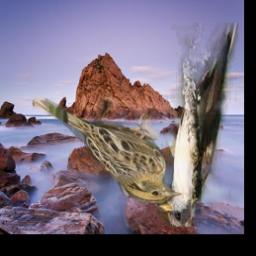Cuckoo: (157, 23, 238, 227)
Sparrow: (34, 98, 185, 205)
